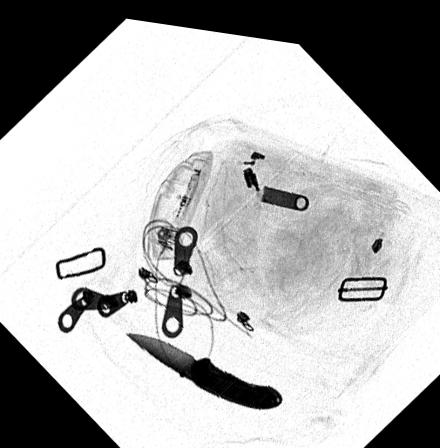Knife: (124, 327, 284, 401)
